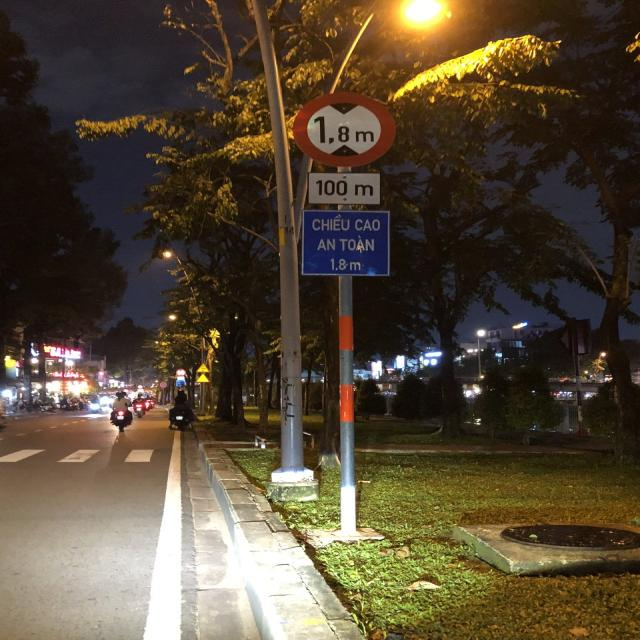Bien bao han che chieu cao: (284, 80, 404, 169)
